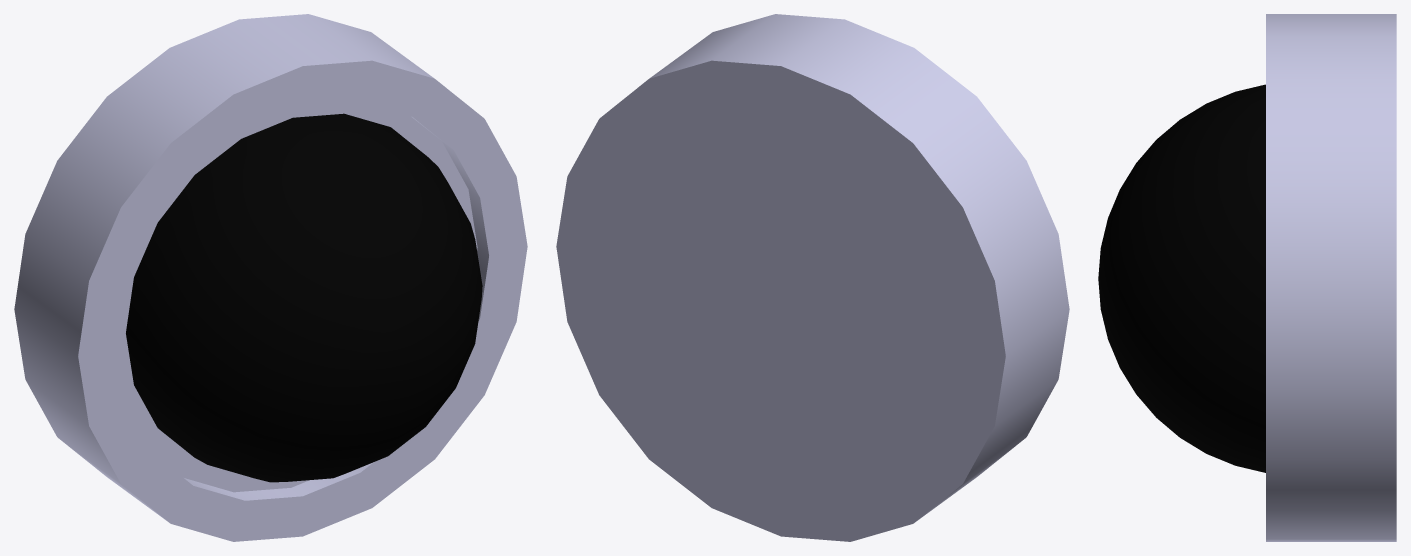
File: Security Camera Final.fbx
The picture shows the model from 3 angles, left to right: view 1: azimuth 30°, elevation 25°; view 2: azimuth 150°, elevation 25°; view 3: azimuth 270°, elevation 25°; orthographic projection. The views are drawn at different scales.
Visible parts, largest first — view 1: Capstone_assets:polySurface10; view 2: Capstone_assets:polySurface10; view 3: Capstone_assets:polySurface10.
Part boxes in pixels (left/top/right/bottom): Capstone_assets:polySurface10: left=14, top=14, right=527, bottom=541; Capstone_assets:polySurface10: left=556, top=14, right=1069, bottom=541; Capstone_assets:polySurface10: left=1098, top=14, right=1396, bottom=541.
Size of the model in its own units: 6.49 by 6.49 by 3.64.
